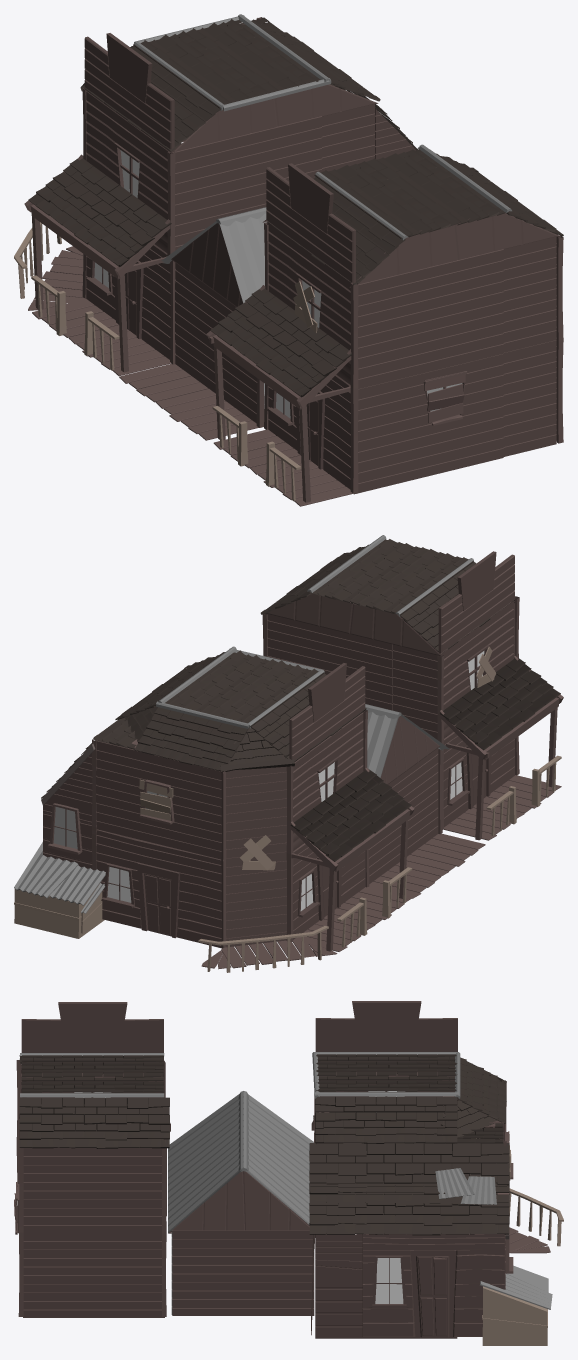
The model's file is Big_House_Mesh_Update_V02.fbx.
The picture shows the model from 3 angles, top to bottom: view 1: azimuth 30°, elevation 25°; view 2: azimuth 150°, elevation 25°; view 3: azimuth 270°, elevation 25°; orthographic projection. The views are drawn at different scales.
Visible parts, largest first — view 1: Big_House_Mesh_Update_V02; view 2: Big_House_Mesh_Update_V02; view 3: Big_House_Mesh_Update_V02.
Boxes of the visible parts, box(x1,y1,x2,y2) form: Big_House_Mesh_Update_V02: box(14, 14, 563, 506); Big_House_Mesh_Update_V02: box(14, 535, 563, 972); Big_House_Mesh_Update_V02: box(14, 1001, 563, 1345).
Bounding box in the file's own units: 995 × 821 × 1741.
